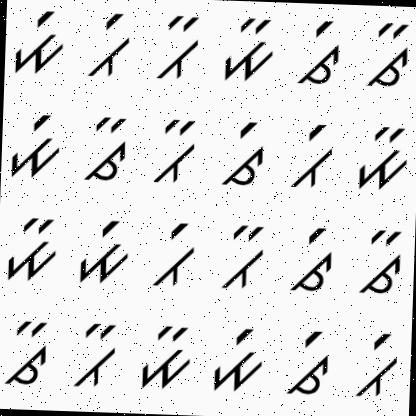ban: (154, 12, 206, 90), (220, 217, 271, 296), (150, 117, 203, 190), (70, 317, 121, 392)
bang: (346, 330, 402, 403), (82, 11, 133, 86), (151, 216, 200, 292), (288, 115, 336, 191)
can: (2, 312, 52, 391), (353, 225, 404, 301), (360, 18, 412, 92), (81, 114, 130, 188)
cang: (218, 113, 270, 190), (293, 17, 348, 89), (290, 220, 340, 298), (284, 327, 334, 399)
man: (212, 14, 279, 84), (136, 320, 197, 394), (350, 121, 412, 192), (5, 212, 59, 284)
mang: (71, 216, 134, 290), (8, 106, 64, 184), (212, 322, 270, 394), (10, 6, 68, 77)
